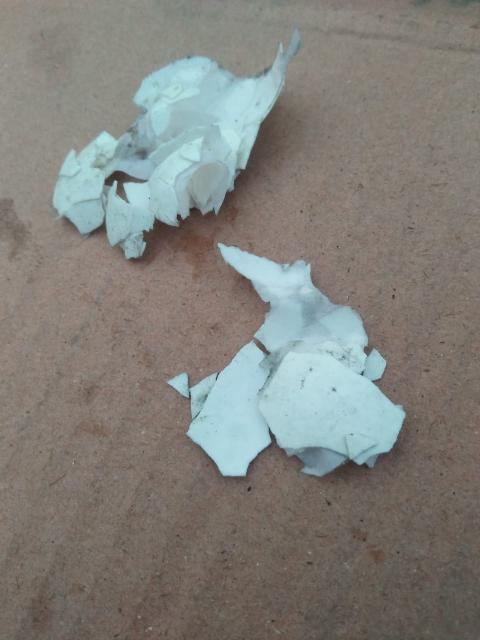Roto: (51, 27, 302, 260), (167, 242, 406, 478)
